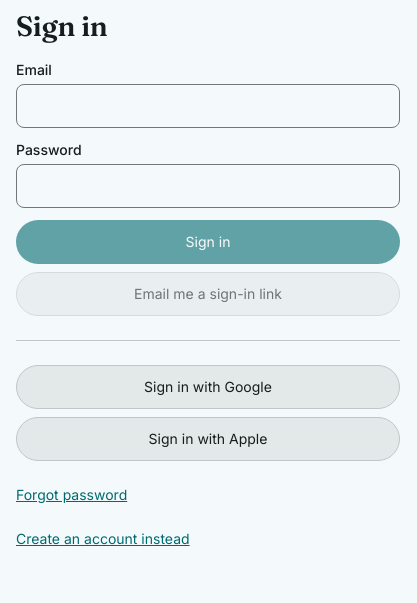
Test: SignInPage (issue #1250) › renders the mapped copy for a rejected password
Type "a@b.co" into the field labelled "Email" at (208, 106), box [16, 84, 400, 128]
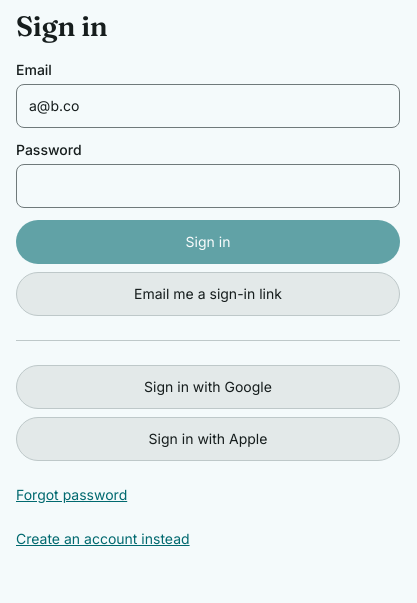
Type "wrong" into the password field labelled "Password" at (208, 186), box [16, 164, 400, 208]
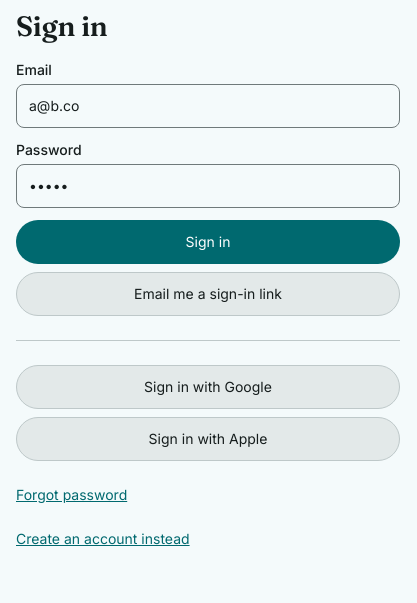
Click the button "Sign in" at (208, 242), box [16, 220, 400, 264]
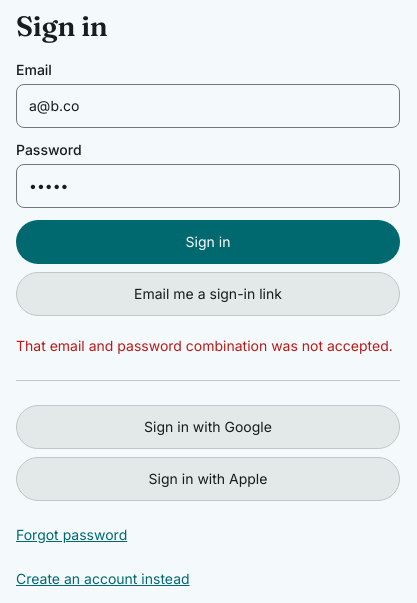
Check: the text "That email and password combination was not accepted." is shown, box [16, 336, 400, 356]
